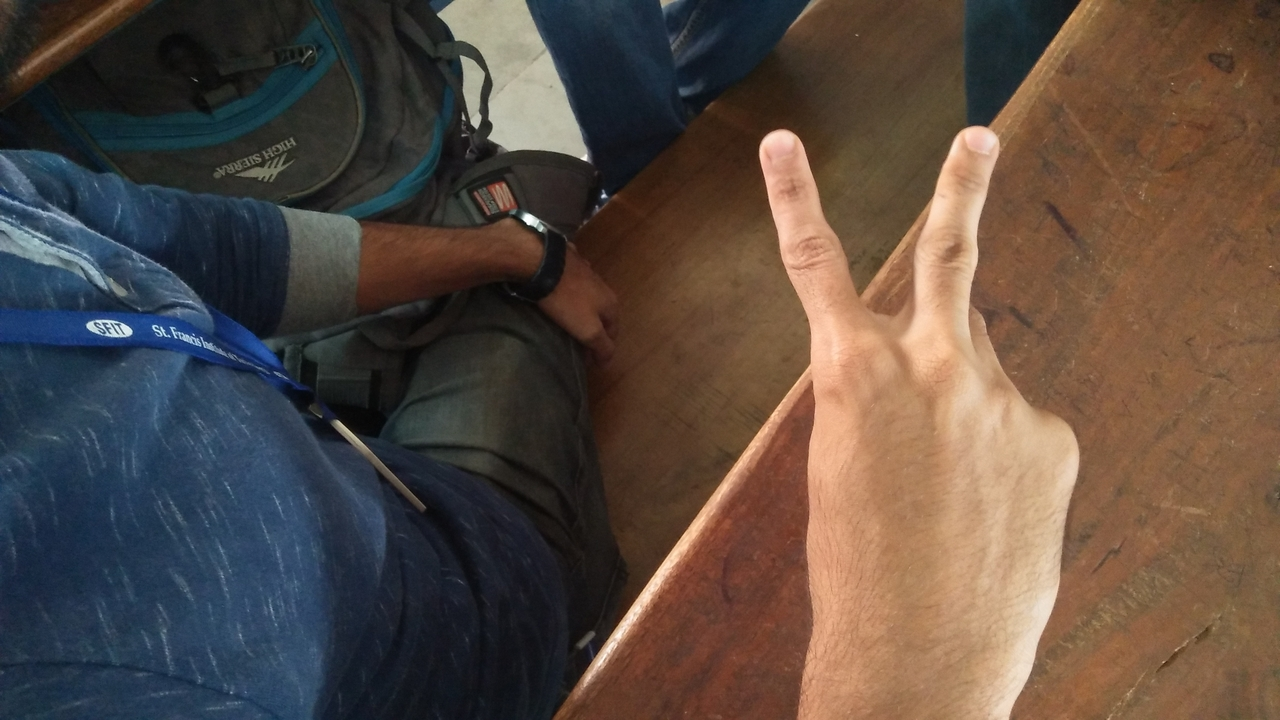fingertip: (944, 114, 1016, 178), (750, 122, 820, 180)
